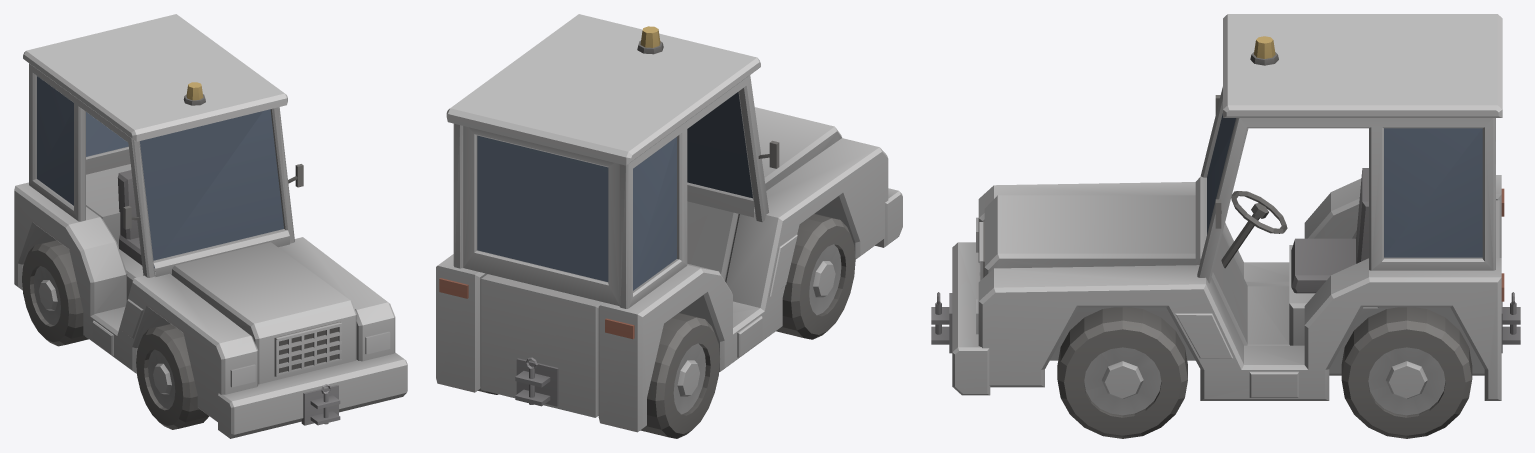
Rendered from tug.glb.
The picture shows the model from 3 angles, left to right: view 1: azimuth 30°, elevation 25°; view 2: azimuth 150°, elevation 25°; view 3: azimuth 270°, elevation 25°; orthographic projection. The views are drawn at different scales.
Parts seen in each view (by area): view 1: tug; view 2: tug; view 3: tug.
Boxes of the visible parts, x1=… form: tug: x1=14, y1=14, x2=407, y2=438; tug: x1=436, y1=14, x2=902, y2=438; tug: x1=931, y1=14, x2=1520, y2=438.
Bounding box in the file's own units: 1.4 × 2.02 × 3.11.
